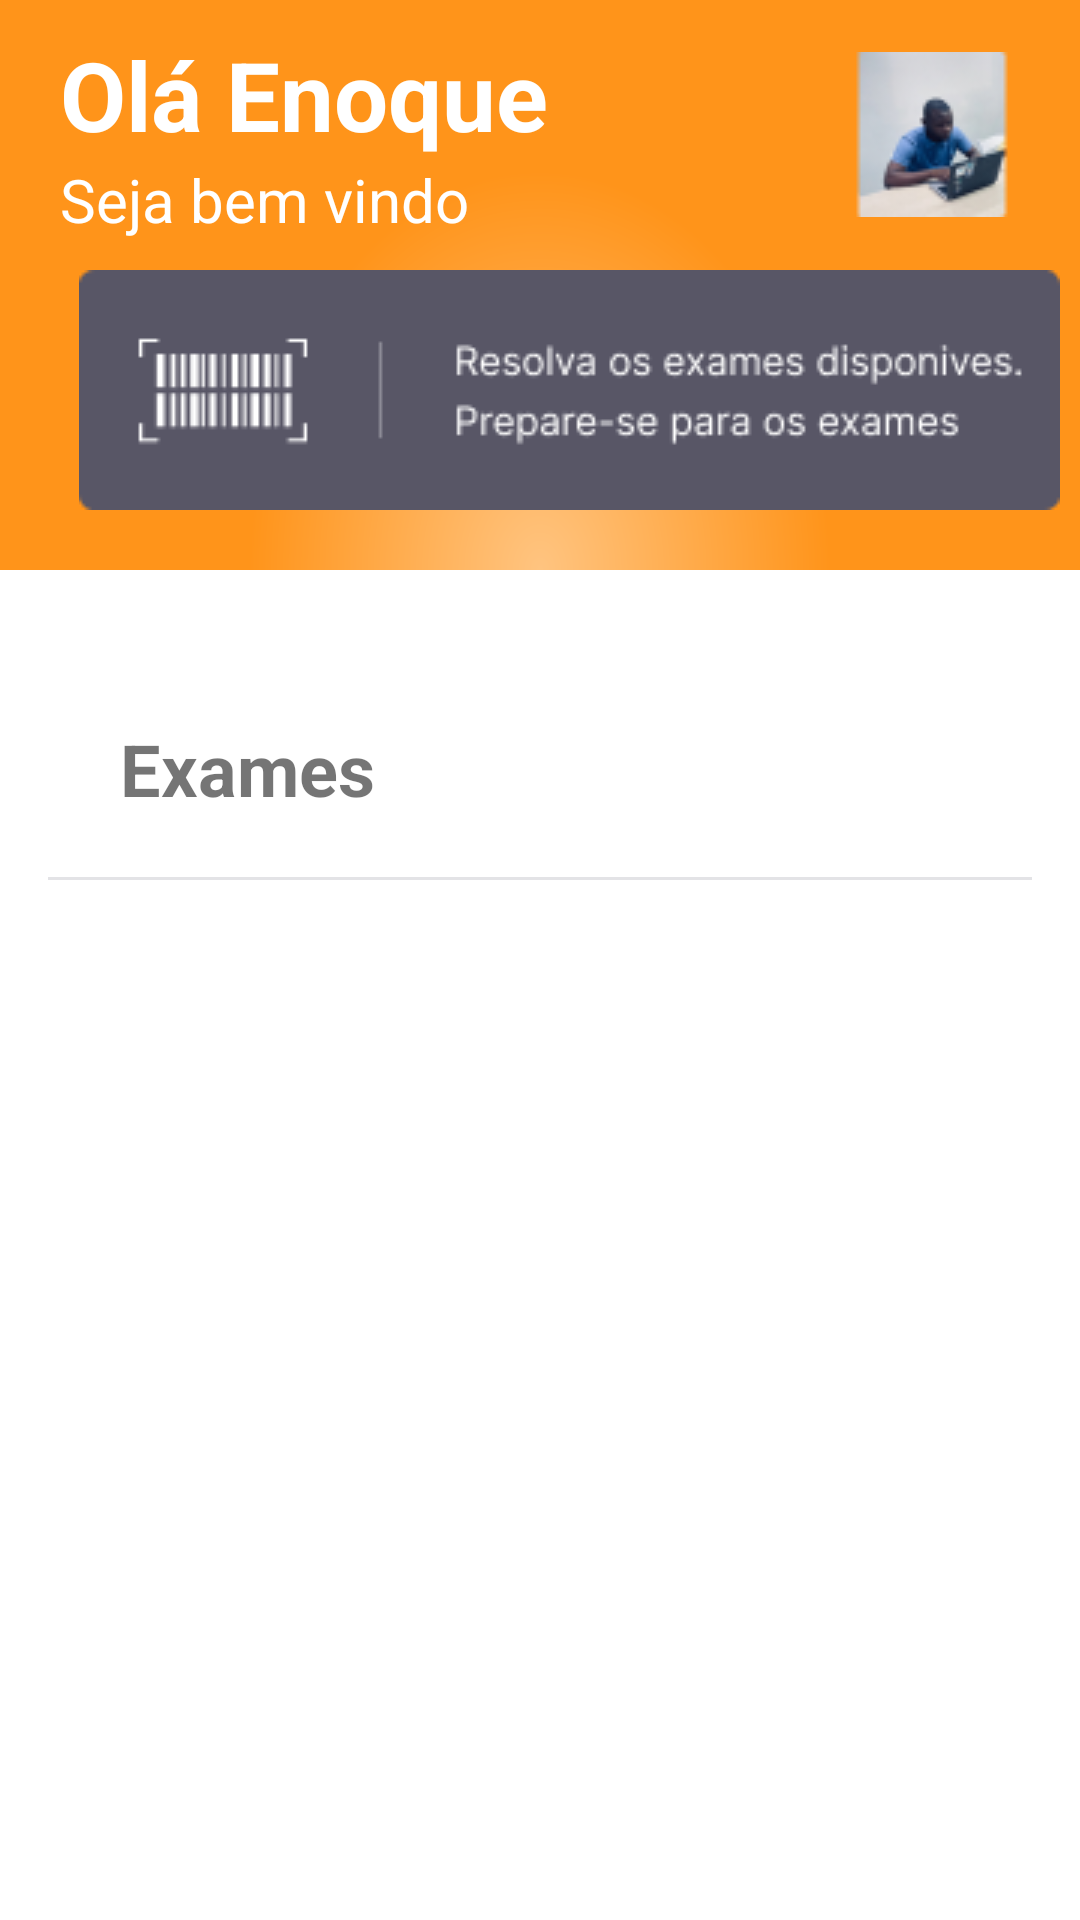

Icons on this 1080x1920 Android screen, each with the point to tap as point (x, y):
profilee: point (932, 134)
